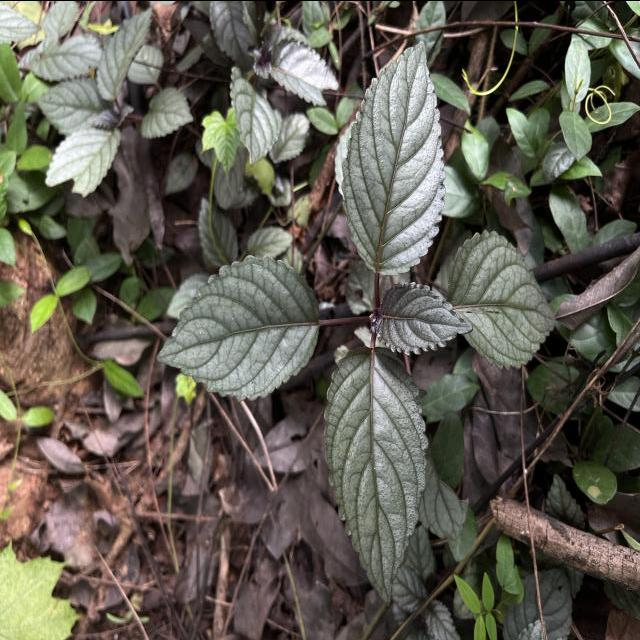Hemigraphis colorata: (320, 343, 432, 610), (338, 37, 448, 277), (152, 250, 323, 404), (446, 226, 560, 374), (372, 278, 476, 358), (226, 61, 286, 168), (94, 2, 154, 102)
